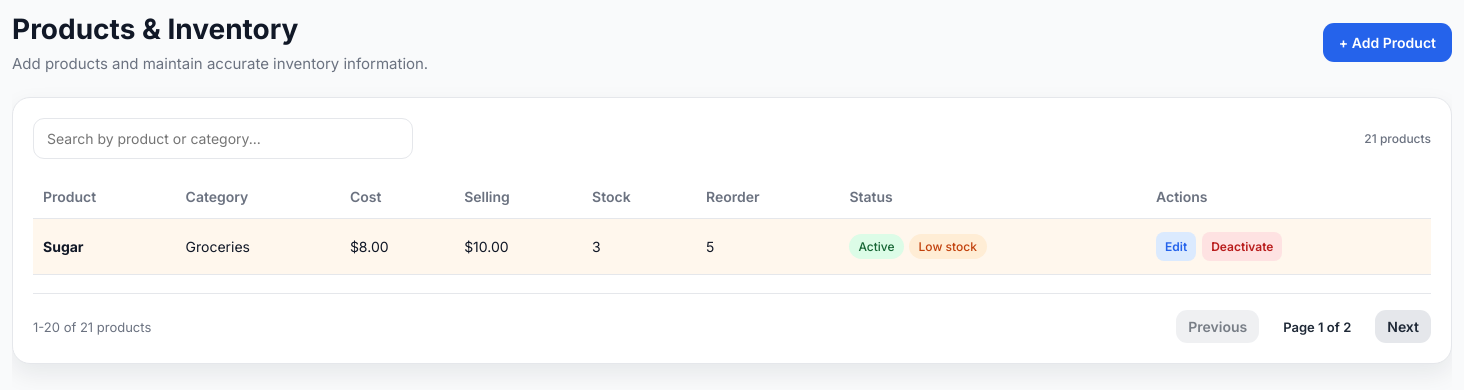
ProductManagement › requests the next product page instead of downloading the full inventory
Expected: the text "Sugar" is shown, [43,238,84,255]
Click the button "Next" at (1403, 326), box [1375,310,1431,343]
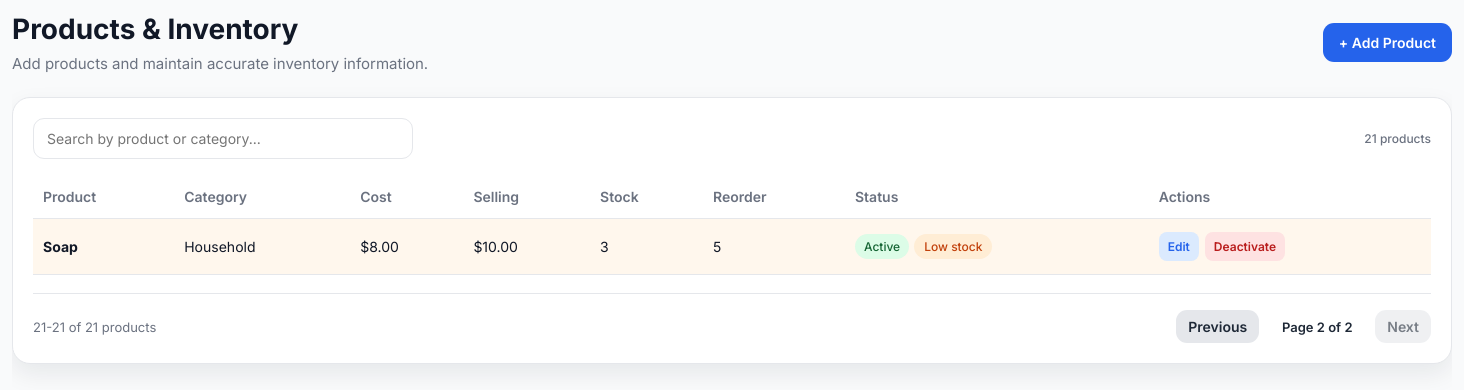
Result: the text "Soap" is shown at [43,238,78,255]
